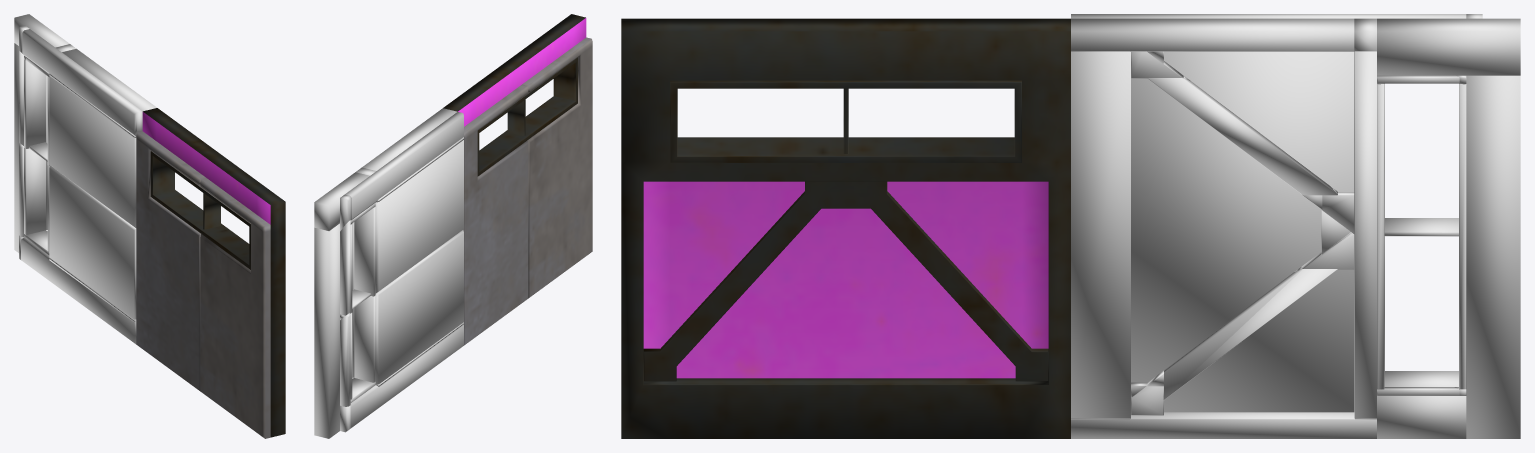
The model's file is SM_Wall_Window_02_Small.fbx.
3 renders of one model, left to right at view 1: azimuth 30°, elevation 25°; view 2: azimuth 150°, elevation 25°; view 3: azimuth 270°, elevation 25°, orthographic. The views are drawn at different scales.
Parts seen in each view (by area): view 1: SM_Wall_Window_02_Small, SM_Wall_Window_02_Small_ConvexHulls; view 2: SM_Wall_Window_02_Small_ConvexHulls, SM_Wall_Window_02_Small; view 3: SM_Wall_Window_02_Small, SM_Wall_Window_02_Small_ConvexHulls.
Part boxes in pixels (box(x1,y1,x2,y2)): SM_Wall_Window_02_Small: box(136, 108, 285, 438); SM_Wall_Window_02_Small_ConvexHulls: box(14, 14, 156, 344); SM_Wall_Window_02_Small_ConvexHulls: box(314, 108, 463, 438); SM_Wall_Window_02_Small: box(443, 14, 592, 345); SM_Wall_Window_02_Small: box(621, 18, 1070, 438); SM_Wall_Window_02_Small_ConvexHulls: box(1071, 14, 1520, 438).
Bounding box in the file's own units: 0.325 × 3 × 6.
